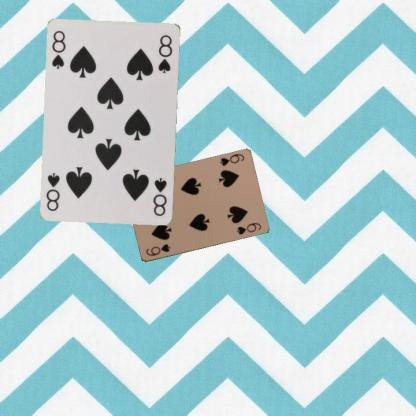6s: (217, 152, 245, 168), (143, 242, 171, 257)
8s: (151, 176, 168, 218), (50, 28, 67, 70)
